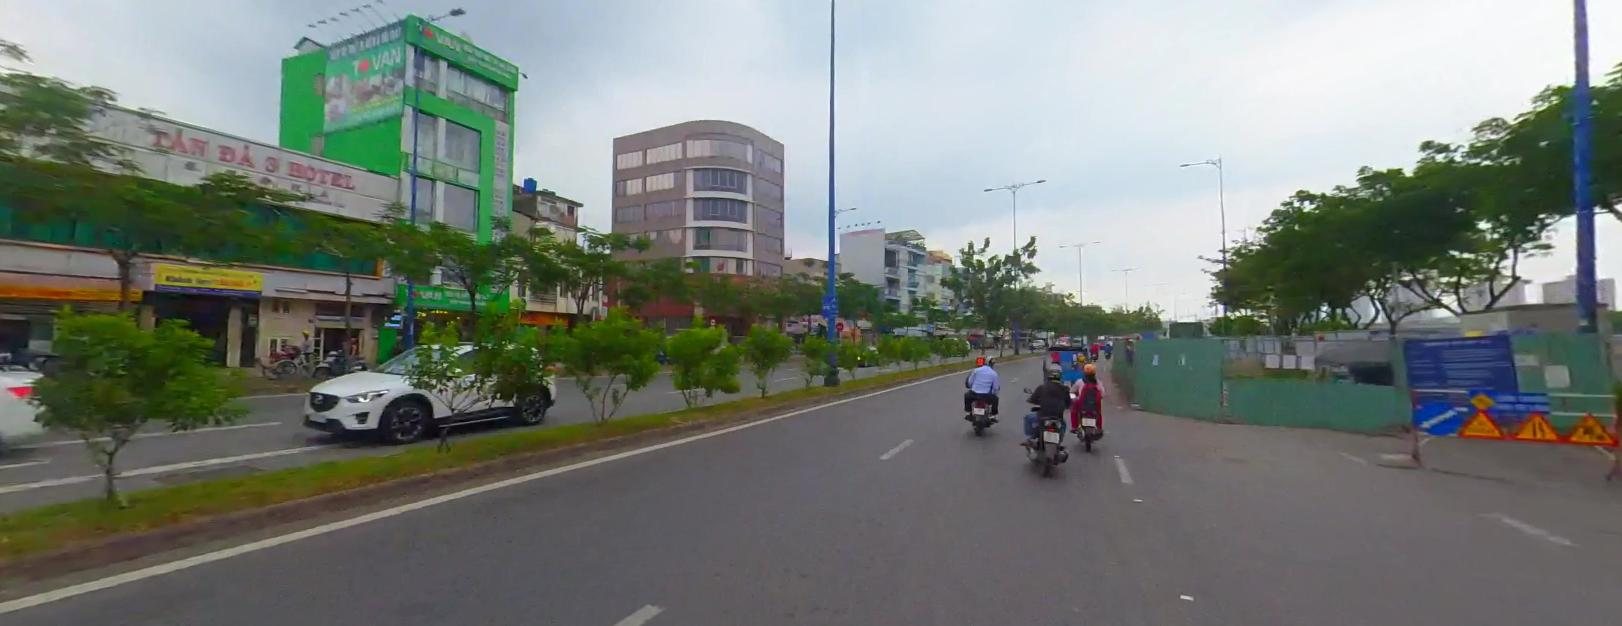Cam nguoc chieu: (836, 321, 843, 330)
Hieu lenh: (1411, 398, 1457, 433)
Nguy hiem: (1566, 412, 1613, 445), (1513, 410, 1559, 442), (1458, 407, 1505, 437)
